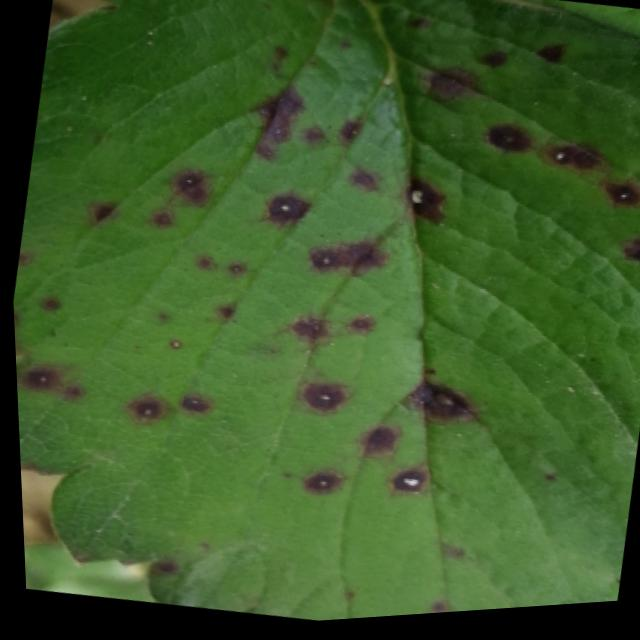Leaf Spot: (10, 0, 640, 625)
